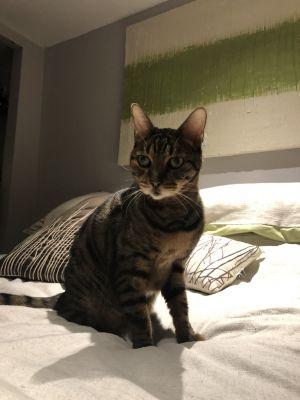bengal: (121, 98, 220, 207)
